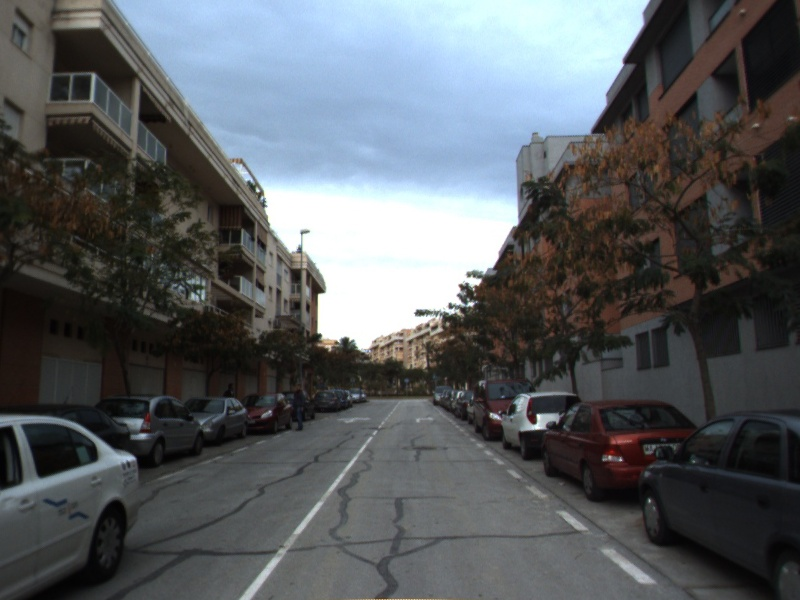RIGHT: (413, 414, 437, 425)
